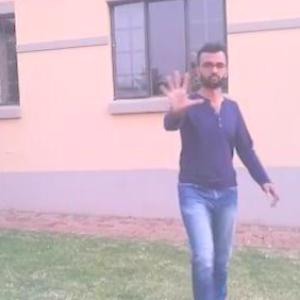follow_hand: (154, 63, 206, 118)
